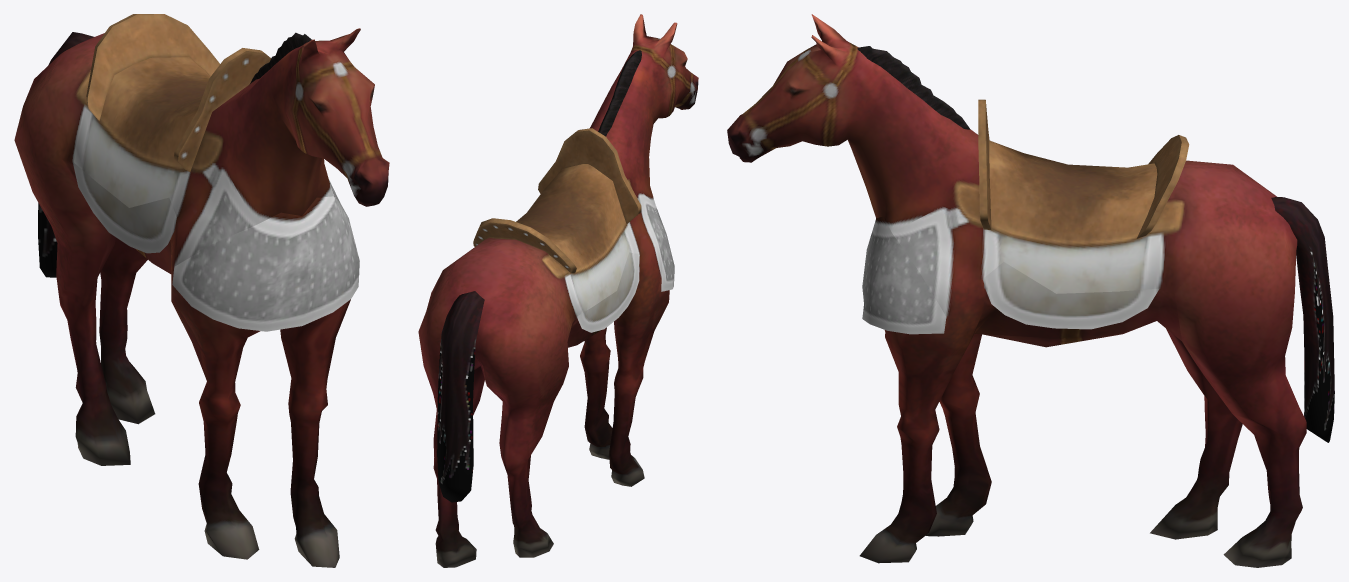
File: body-base.glb
3 views of the same model, side by side, from view 1: azimuth 30°, elevation 25°; view 2: azimuth 150°, elevation 25°; view 3: azimuth 270°, elevation 25° (orthographic). The views are drawn at different scales.
Bounding box in the file's own units: 0.8213 × 2.5 × 2.65.
Materials: 1 (1 with a texture image).
